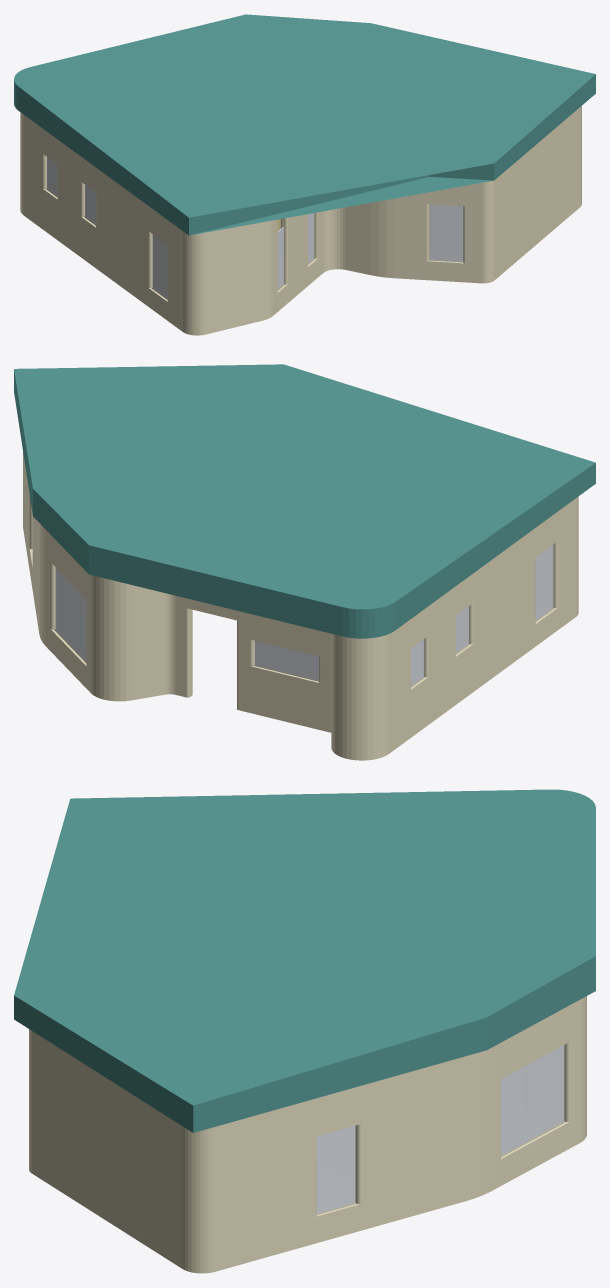
Rendered from Mark9.glb.
3 renders of one model, top to bottom at view 1: azimuth 30°, elevation 25°; view 2: azimuth 150°, elevation 25°; view 3: azimuth 270°, elevation 25°, orthographic. The views are drawn at different scales.
Size of the model in its own units: 41.44 by 11.52 by 32.94.
